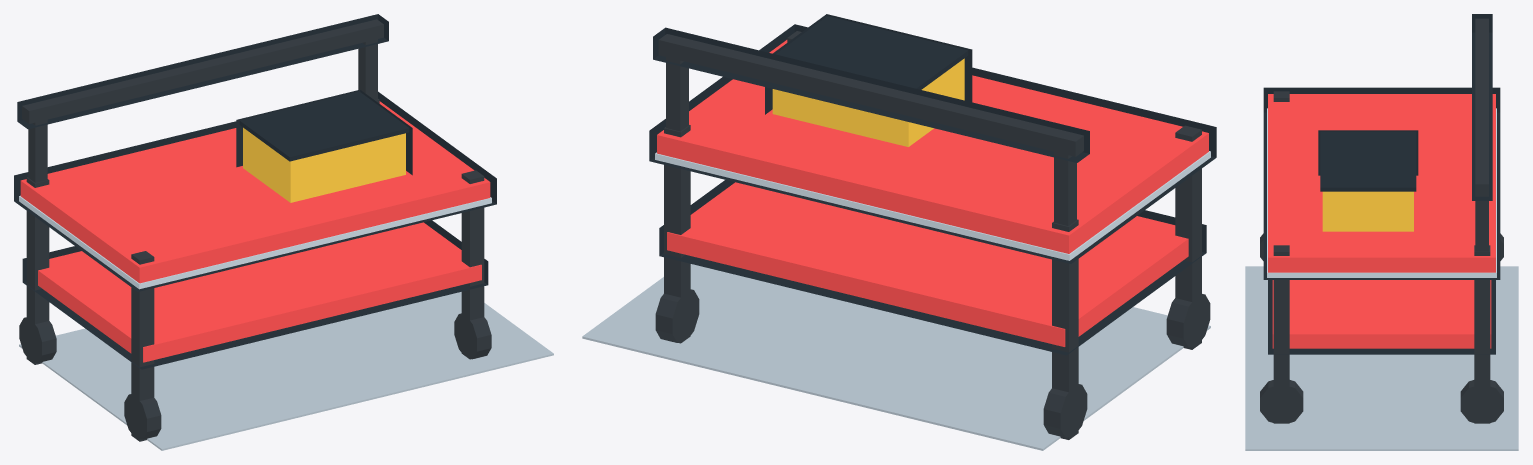
File: utility-props.glb
The picture shows the model from 3 angles, left to right: view 1: azimuth 30°, elevation 25°; view 2: azimuth 150°, elevation 25°; view 3: azimuth 270°, elevation 25°; orthographic projection. The views are drawn at different scales.
Parts seen in each view (by area): view 1: utility-cart; view 2: utility-cart; view 3: utility-cart.
Part boxes in pixels (box(x1,y1,x2,y2)): utility-cart: box(14, 14, 553, 450); utility-cart: box(582, 14, 1216, 450); utility-cart: box(1245, 14, 1518, 450).
Size of the model in its own units: 1.98 by 1.2 by 1.2.
